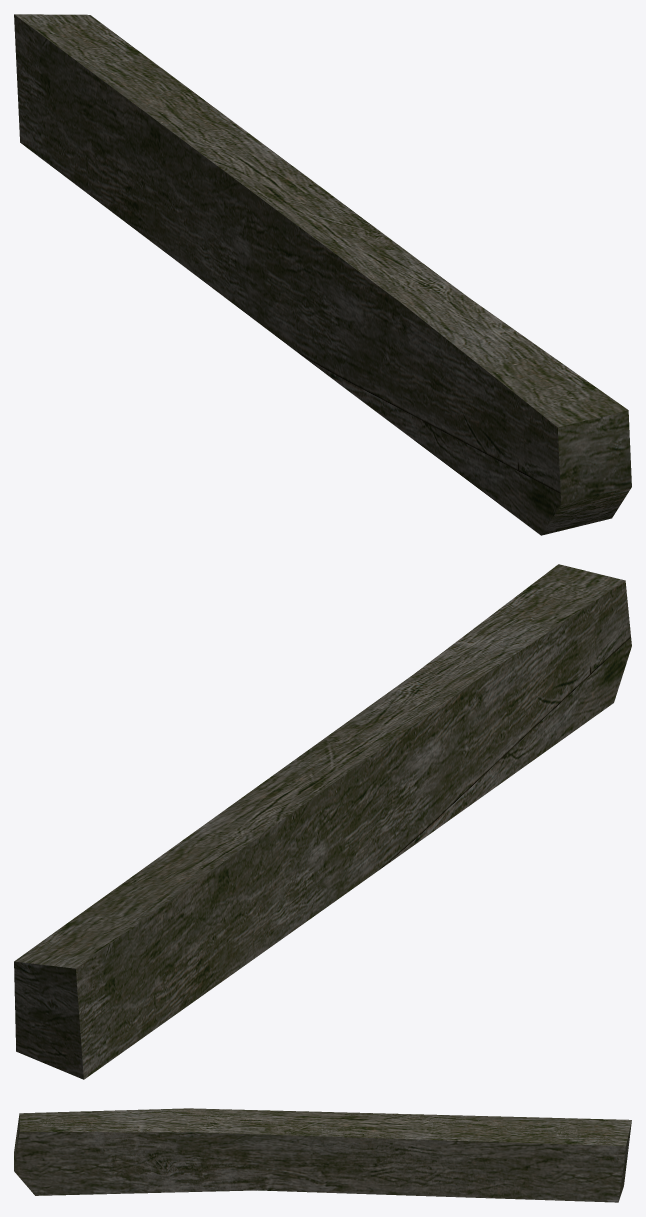
File: TI_Plank_S_01.fbx
The picture shows the model from 3 angles, top to bottom: view 1: azimuth 30°, elevation 25°; view 2: azimuth 150°, elevation 25°; view 3: azimuth 270°, elevation 25°; orthographic projection. The views are drawn at different scales.
Visible parts, largest first — view 1: TI_Plank_S_01; view 2: TI_Plank_S_01; view 3: TI_Plank_S_01.
Part boxes in pixels (box(x1,y1,x2,y2)): TI_Plank_S_01: box(14, 14, 631, 535); TI_Plank_S_01: box(14, 564, 631, 1079); TI_Plank_S_01: box(14, 1108, 631, 1202).
Bounding box in the file's own units: 0.1455 × 0.1939 × 1.48.
